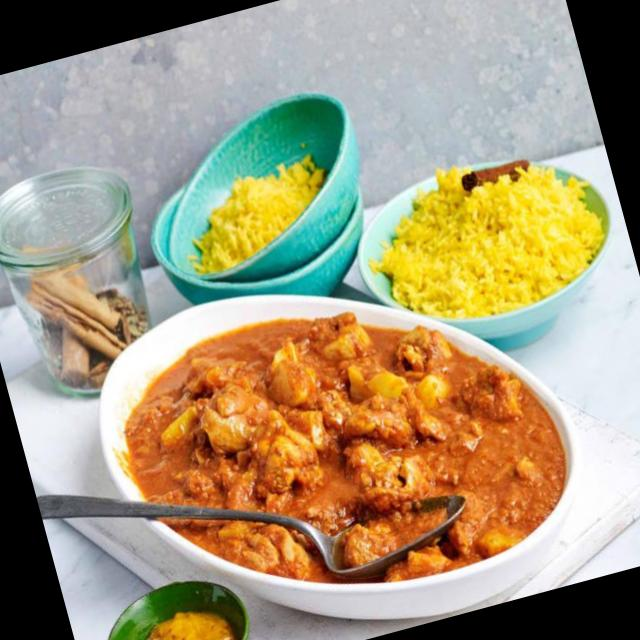chicken: (85, 292, 558, 634)
rice: (369, 140, 612, 327), (164, 143, 338, 295)
